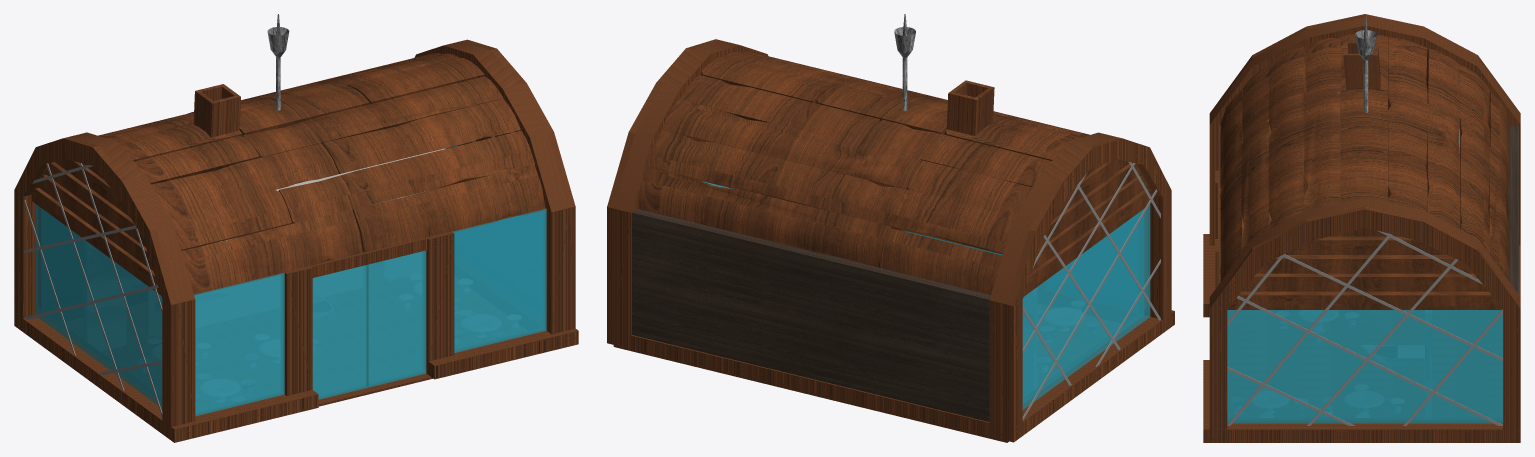
Rendered from Restaurant.FBX.
The picture shows the model from 3 angles, left to right: view 1: azimuth 30°, elevation 25°; view 2: azimuth 150°, elevation 25°; view 3: azimuth 270°, elevation 25°; orthographic projection.
Visible parts, largest first — view 1: Box030, Box015, Box017, Box018, Box011, Rectangle008, Box013, Box014, Box016, Box019, Box021, Box012 (+7 smaller); view 2: Box030, Rectangle006, Box002, Box007, Box005, Box006, Rectangle008, Box009, Box010, Box004, Box019, Box008 (+8 smaller); view 3: Box030, Rectangle005, Box011, Box007, Box010, Box009, Box014, Box015, Box013, Box021, Box006, Box005 (+18 smaller).
Part boxes in pixels (bbox=[...]): Box030: bbox=[14, 39, 578, 442]; Box015: bbox=[278, 130, 534, 224]; Box017: bbox=[352, 165, 545, 252]; Box018: bbox=[181, 209, 362, 295]; Box011: bbox=[243, 76, 503, 157]; Rectangle008: bbox=[31, 159, 160, 295]; Box013: bbox=[322, 98, 520, 173]; Box014: bbox=[151, 143, 338, 215]; Box016: bbox=[169, 190, 291, 250]; Box019: bbox=[116, 84, 242, 161]; Box021: bbox=[239, 86, 369, 136]; Box012: bbox=[134, 136, 259, 184]; Box030: bbox=[607, 39, 1174, 442]; Rectangle006: bbox=[632, 208, 990, 421]; Box002: bbox=[637, 166, 890, 267]; Box007: bbox=[662, 100, 921, 189]; Box005: bbox=[647, 130, 843, 211]; Box006: bbox=[830, 174, 1015, 254]; Rectangle008: bbox=[1024, 160, 1153, 296]; Box009: bbox=[679, 75, 880, 144]; Box010: bbox=[863, 119, 1051, 186]; Box004: bbox=[882, 228, 1002, 294]; Box019: bbox=[944, 80, 1070, 160]; Box008: bbox=[907, 160, 1032, 215]; Box030: bbox=[1203, 14, 1520, 442]; Rectangle005: bbox=[1227, 227, 1502, 309]; Box011: bbox=[1304, 93, 1340, 211]; Box007: bbox=[1426, 103, 1460, 229]; Box010: bbox=[1387, 37, 1427, 131]; Box009: bbox=[1387, 121, 1427, 211]; Box014: bbox=[1269, 46, 1306, 148]; Box015: bbox=[1241, 121, 1271, 253]; Box013: bbox=[1269, 131, 1306, 229]; Box021: bbox=[1340, 89, 1387, 153]; Box006: bbox=[1460, 65, 1489, 173]; Box005: bbox=[1460, 150, 1489, 254].
Size of the model in its own units: 1041 by 800 by 714.
10 materials, 7 textured.
